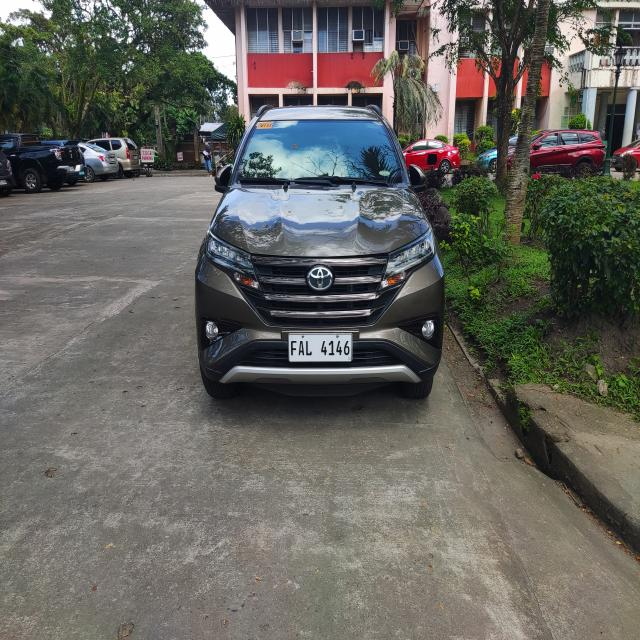plate: (287, 332, 353, 363)
